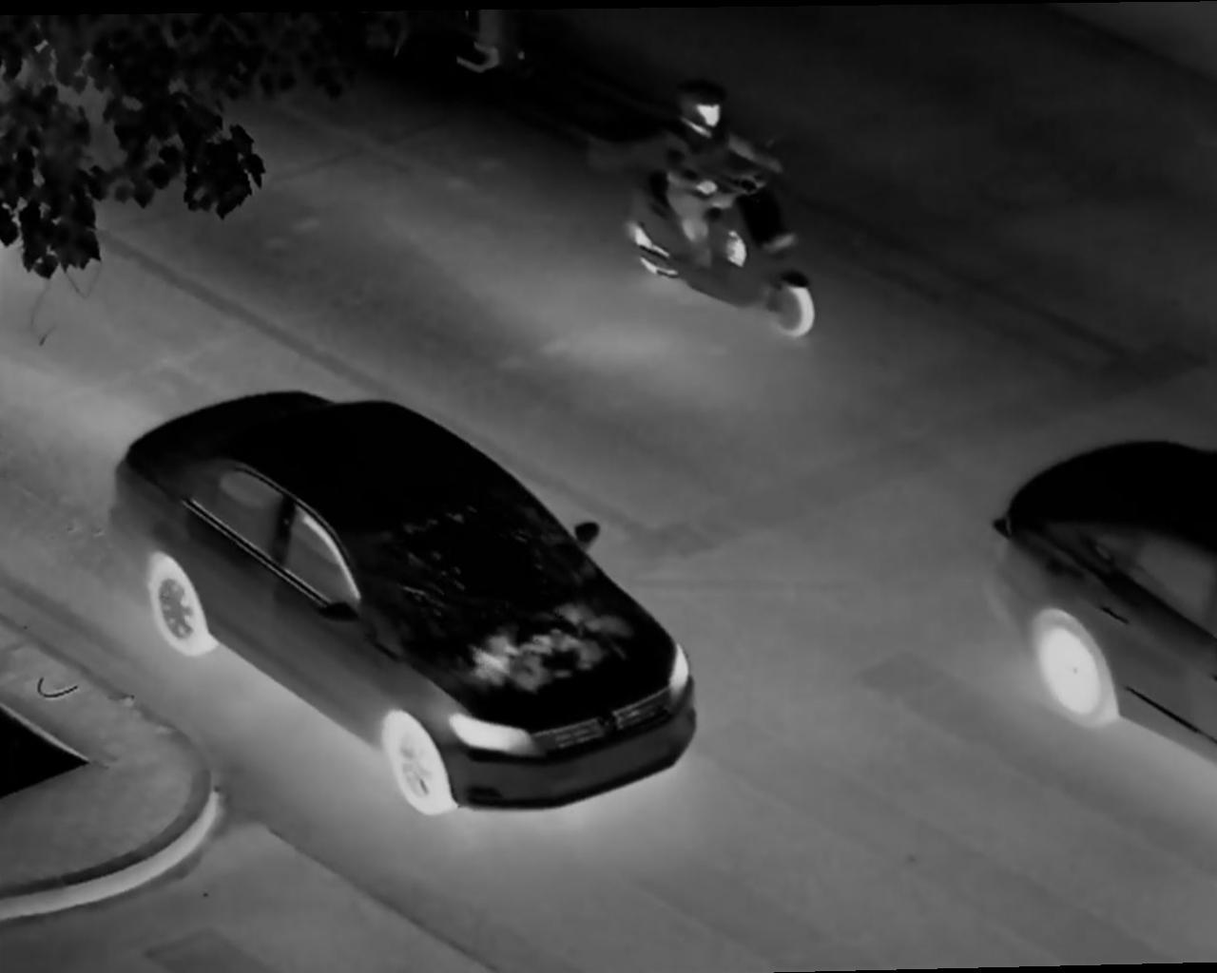person: (666, 76, 774, 341)
